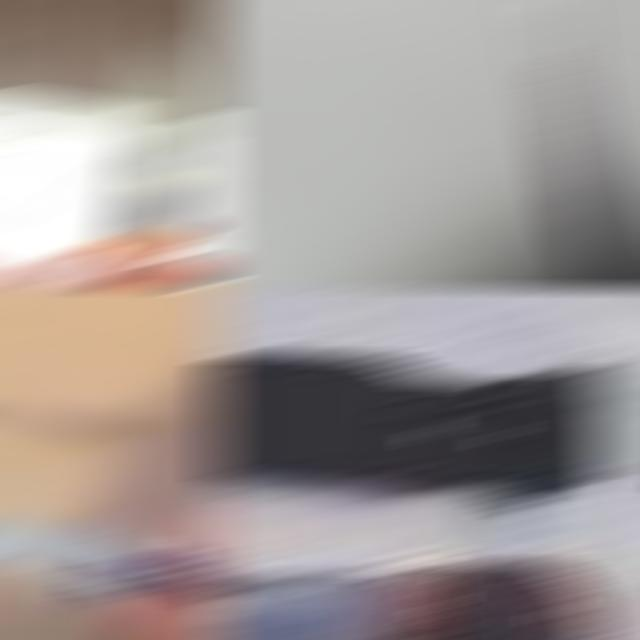Knife: (206, 566, 600, 638), (513, 2, 609, 286), (98, 40, 196, 286)
Knife_Handle: (0, 32, 228, 286), (0, 479, 228, 638)
